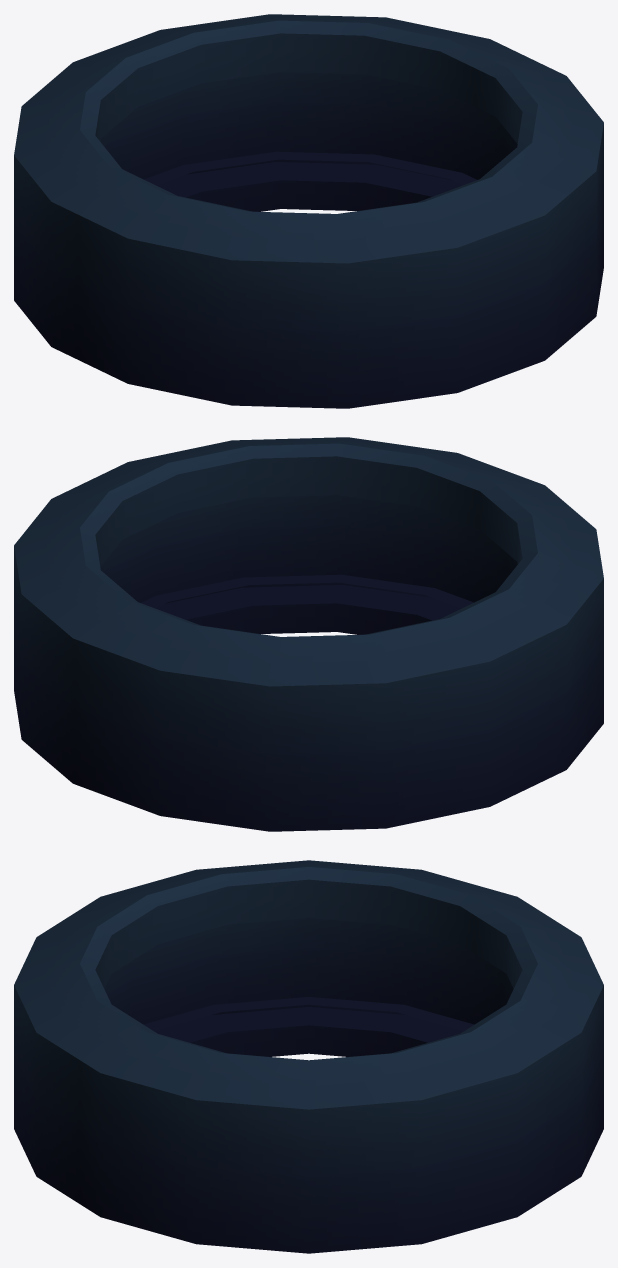
File: Tire.fbx
3 views of the same model, one above another, from view 1: azimuth 30°, elevation 25°; view 2: azimuth 150°, elevation 25°; view 3: azimuth 270°, elevation 25° (orthographic).
Parts seen in each view (by area): view 1: LowPolyHumanBase.013; view 2: LowPolyHumanBase.013; view 3: LowPolyHumanBase.013.
Part boxes in pixels (box(x1,y1,x2,y2)): LowPolyHumanBase.013: box(14, 14, 603, 408); LowPolyHumanBase.013: box(14, 437, 603, 831); LowPolyHumanBase.013: box(14, 860, 603, 1253).
Size of the model in its own units: 164 by 57.24 by 164.
